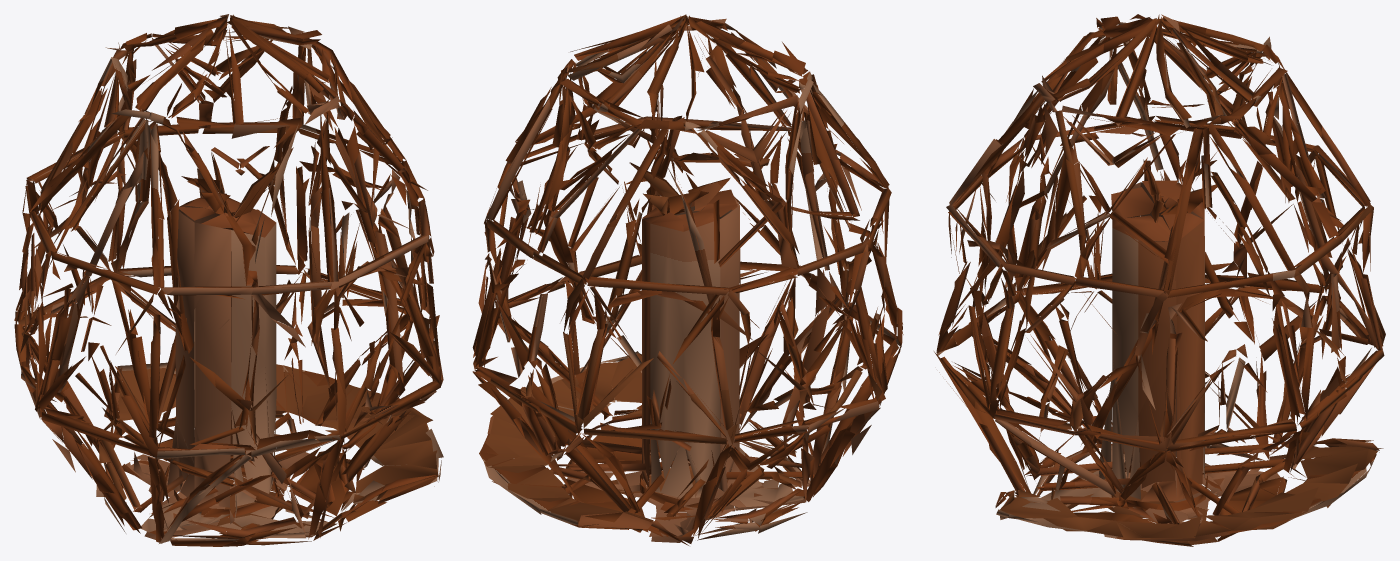
Rendered from lantern.glb.
3 views of the same model, side by side, from view 1: azimuth 30°, elevation 25°; view 2: azimuth 150°, elevation 25°; view 3: azimuth 270°, elevation 25° (orthographic).
Visible parts, largest first — view 1: LO.001; view 2: LO.001; view 3: LO.001.
Part boxes in pixels (x1=…): LO.001: x1=14, y1=14, x2=443, y2=546; LO.001: x1=472, y1=14, x2=903, y2=545; LO.001: x1=934, y1=14, x2=1385, y2=546.
Size of the model in its own units: 0.8269 by 0.9836 by 0.8358.
1 material, 1 textured.
